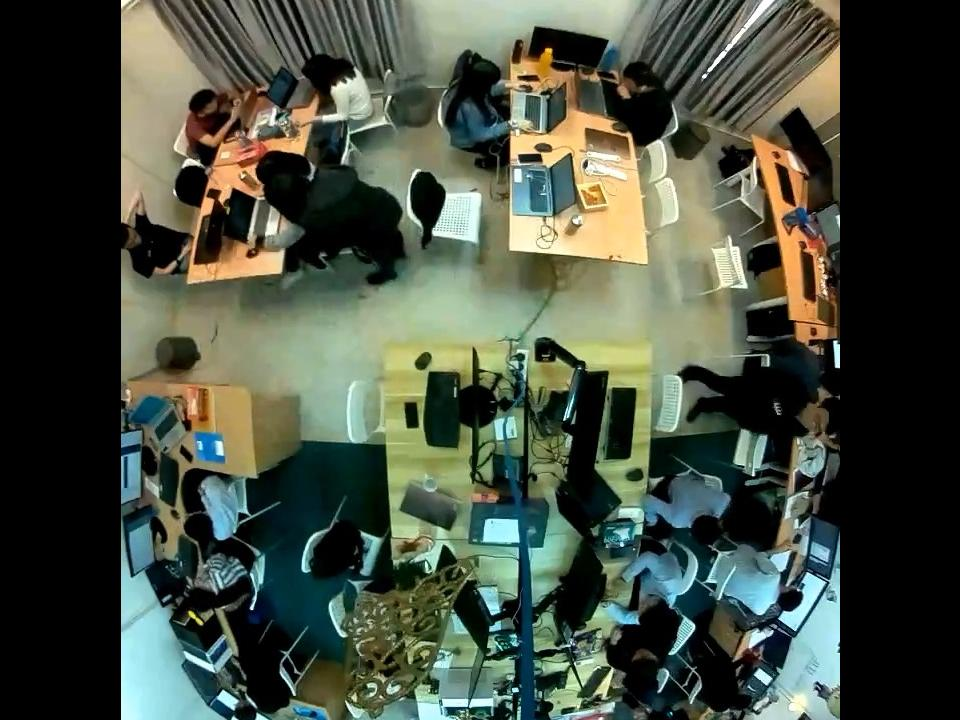name-tag: (770, 401, 782, 417)
